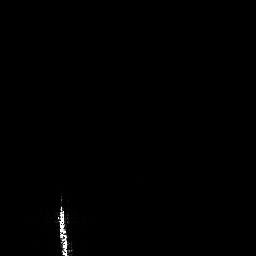ship: (55, 193, 73, 256)
